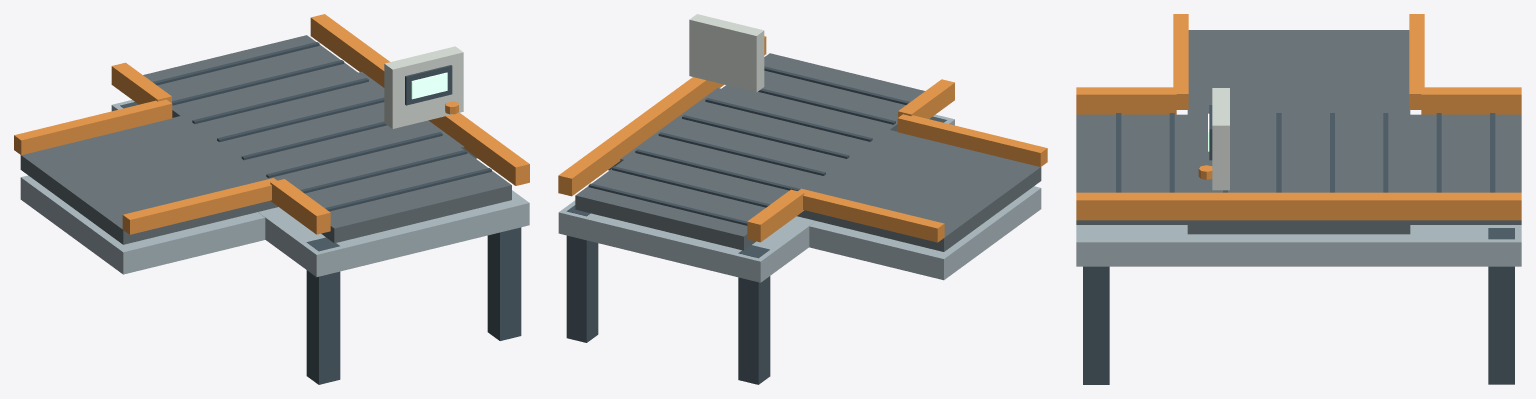
File: three-way-belt-splitter.glb
The picture shows the model from 3 angles, left to right: view 1: azimuth 30°, elevation 25°; view 2: azimuth 150°, elevation 25°; view 3: azimuth 270°, elevation 25°; orthographic projection. The views are drawn at different scales.
Visible parts, largest first — view 1: rubber, steel, dark, orange, cream, light; view 2: rubber, steel, orange, dark, cream; view 3: rubber, orange, steel, dark, cream.
Boxes of the visible parts, x1,y1,x2,y2 form: rubber: (20,35,511,244); steel: (20,100,529,277); dark: (120,42,521,384); orange: (14,14,529,234); cream: (384,46,463,128); light: (411,72,447,99); rubber: (575,53,1041,251); steel: (558,114,1041,282); orange: (558,36,1047,242); dark: (566,66,946,384); cream: (689,14,764,92); rubber: (1076,30,1521,234); orange: (1076,14,1521,220); steel: (1076,225,1521,266); dark: (1083,105,1514,384); cream: (1212,88,1229,190).
Size of the model in its own units: 2 by 1.29 by 2.
